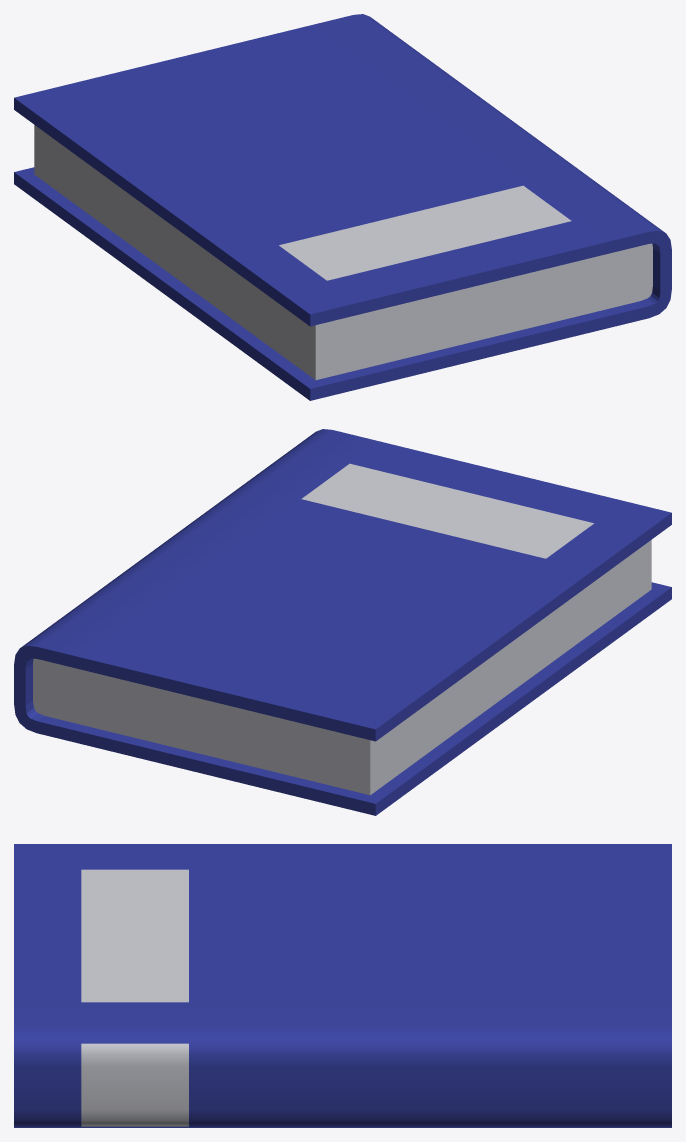
File: Libro Azul.FBX
3 views of the same model, one above another, from view 1: azimuth 30°, elevation 25°; view 2: azimuth 150°, elevation 25°; view 3: azimuth 270°, elevation 25° (orthographic). The views are drawn at different scales.
Parts seen in each view (by area): view 1: Book; view 2: Book; view 3: Book.
Part boxes in pixels (x1,y1,x2,y2): Book: [14, 14, 671, 400]; Book: [14, 429, 671, 815]; Book: [14, 844, 671, 1127].
Size of the model in its own units: 48.55 by 68.83 by 11.09.
